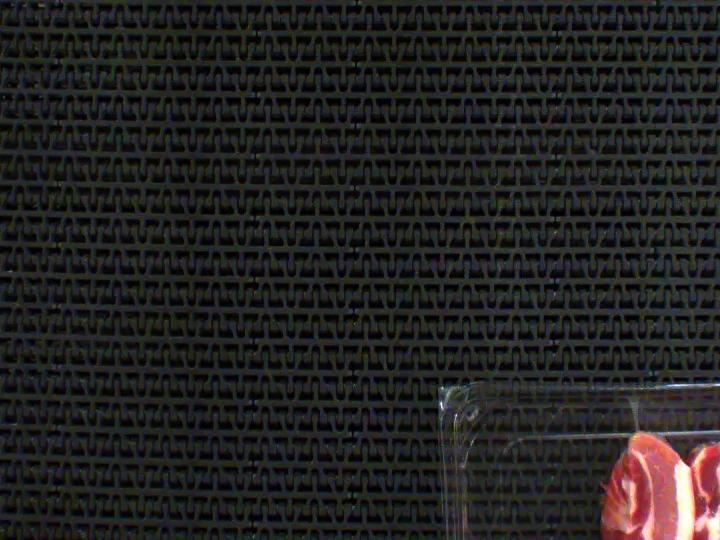packaging-error: (614, 387, 657, 437)
